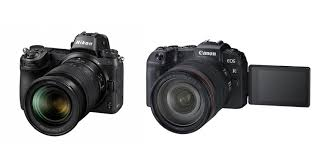camera: (19, 38, 123, 132), (145, 41, 250, 133)
